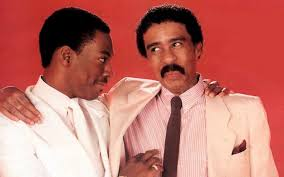black_male: (141, 15, 214, 93)
